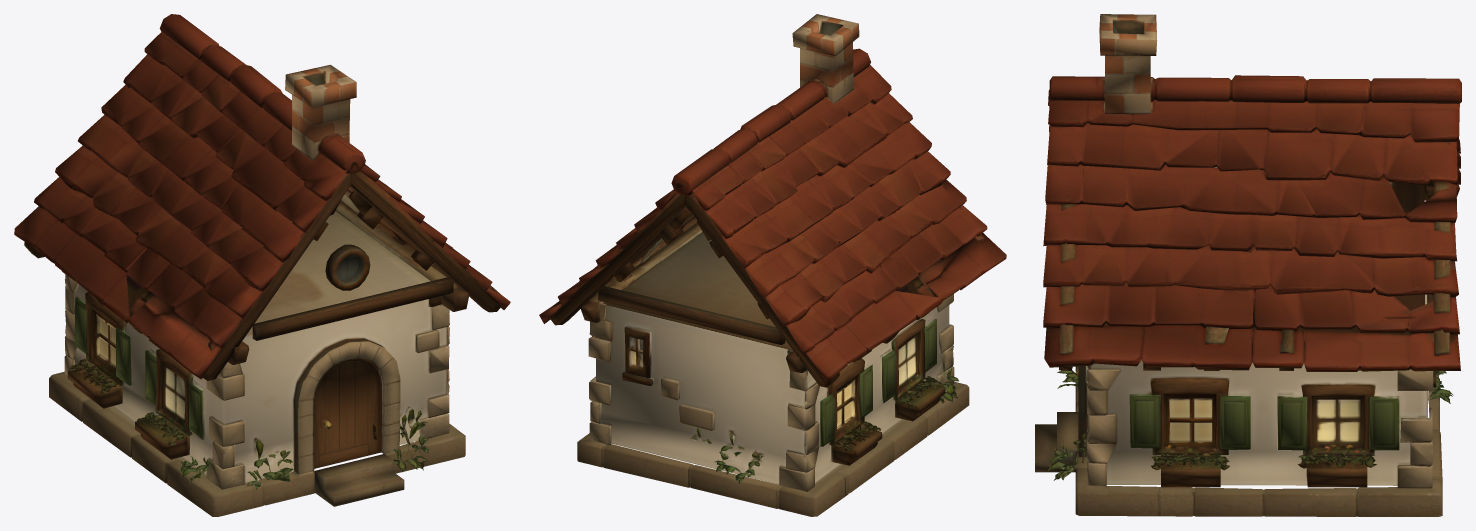
File: house.glb
The picture shows the model from 3 angles, left to right: view 1: azimuth 30°, elevation 25°; view 2: azimuth 150°, elevation 25°; view 3: azimuth 270°, elevation 25°; orthographic projection. The views are drawn at different scales.
Visible parts, largest first — view 1: tripo_node_7733f887-aaf1-42f4-9a86-e465a831bf7f; view 2: tripo_node_7733f887-aaf1-42f4-9a86-e465a831bf7f; view 3: tripo_node_7733f887-aaf1-42f4-9a86-e465a831bf7f.
Boxes of the visible parts, x1,y1,x2,y2 form: tripo_node_7733f887-aaf1-42f4-9a86-e465a831bf7f: (14,14,510,516); tripo_node_7733f887-aaf1-42f4-9a86-e465a831bf7f: (539,14,1006,516); tripo_node_7733f887-aaf1-42f4-9a86-e465a831bf7f: (1035,14,1461,516).
Bounding box in the file's own units: 0.8574 × 0.998 × 0.9082.
1 material, 1 textured.
